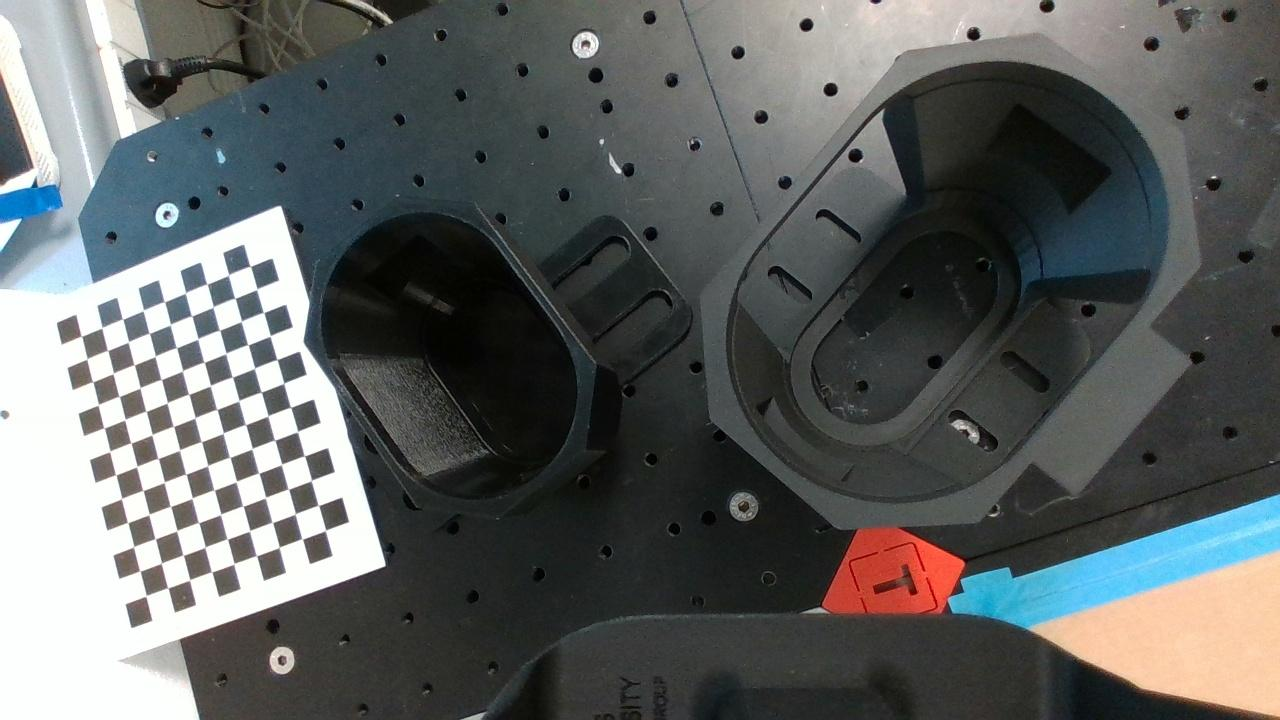big_interface: (699, 32, 1203, 531)
small_interface: (303, 196, 597, 520)
